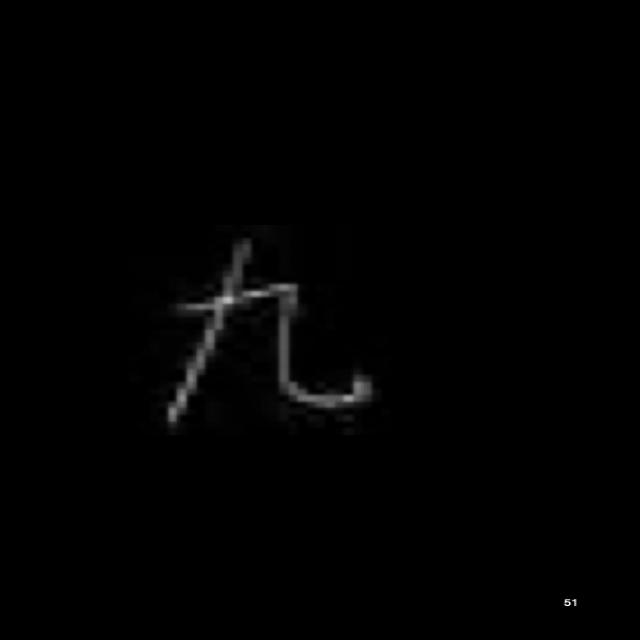9 -nine-: (156, 234, 374, 432)
